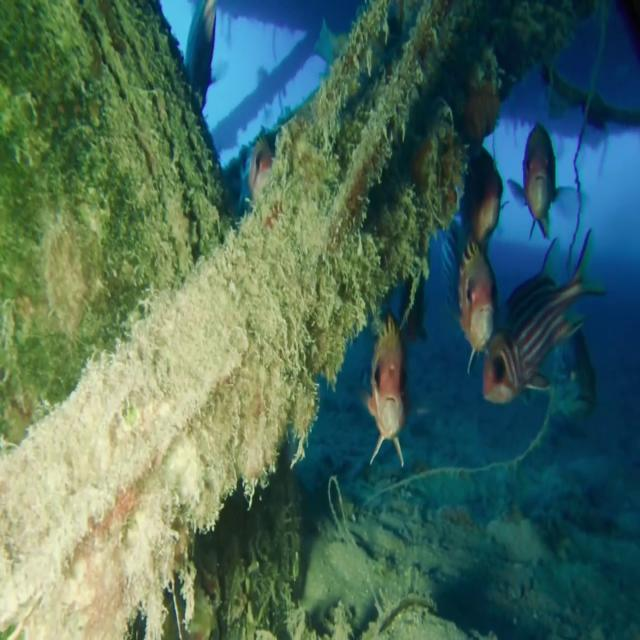Asker Baligi: (480, 226, 606, 406), (362, 311, 409, 469)
